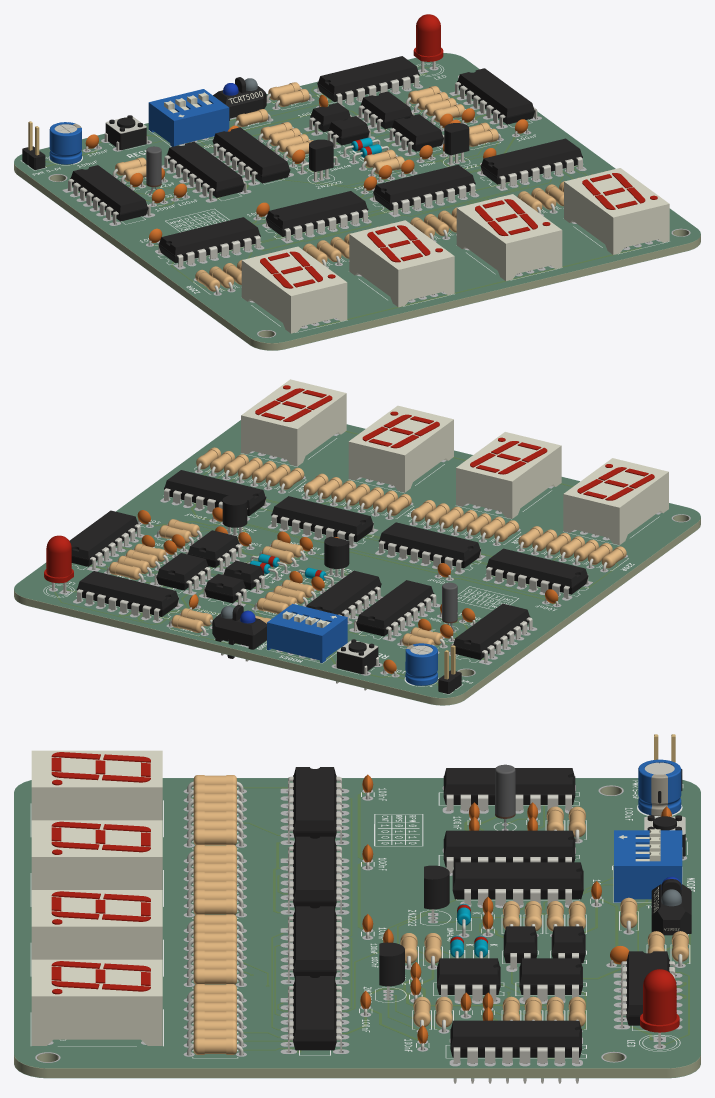
File: optotach_3d_model.glb
3 views of the same model, one above another, from view 1: azimuth 30°, elevation 25°; view 2: azimuth 150°, elevation 25°; view 3: azimuth 270°, elevation 25° (orthographic). The views are drawn at different scales.
Visible parts, largest first — view 1: =>[0:1:1:39], =>[0:1:1:41], =>[0:1:1:33] (×4), =>[0:1:1:19] (×8), =>[0:1:1:35], =>[0:1:1:25], =>[0:1:1:9] (×2), =>[0:1:1:37], =>[0:1:1:27], =>[0:1:1:17] (×2), =>[0:1:1:21] (×2), =>[0:1:1:29] (+6 smaller); view 2: =>[0:1:1:39], =>[0:1:1:41], =>[0:1:1:33] (×4), =>[0:1:1:19] (×8), =>[0:1:1:35], =>[0:1:1:25], =>[0:1:1:37], =>[0:1:1:9] (×2), =>[0:1:1:27], =>[0:1:1:29], =>[0:1:1:17] (×2), =>[0:1:1:21] (×2) (+6 smaller); view 3: =>[0:1:1:39], =>[0:1:1:41], =>[0:1:1:33] (×4), =>[0:1:1:19] (×8), =>[0:1:1:35], =>[0:1:1:3] (×10), =>[0:1:1:27], =>[0:1:1:9] (×2), =>[0:1:1:37], =>[0:1:1:25], =>[0:1:1:17] (×2), =>[0:1:1:21] (×2) (+7 smaller).
Part boxes in pixels (left/top/right/bottom): =>[0:1:1:39]: left=14, top=53, right=700, bottom=343; =>[0:1:1:41]: left=14, top=54, right=700, bottom=350; =>[0:1:1:33] (×4): left=241, top=168, right=669, bottom=333; =>[0:1:1:19] (×8): left=68, top=56, right=582, bottom=267; =>[0:1:1:35]: left=48, top=66, right=690, bottom=337; =>[0:1:1:25]: left=148, top=89, right=229, bottom=146; =>[0:1:1:9] (×2): left=358, top=91, right=444, bottom=154; =>[0:1:1:37]: left=20, top=63, right=669, bottom=332; =>[0:1:1:27]: left=212, top=127, right=290, bottom=184; =>[0:1:1:17] (×2): left=309, top=103, right=370, bottom=147; =>[0:1:1:21] (×2): left=309, top=123, right=469, bottom=181; =>[0:1:1:29]: left=213, top=77, right=266, bottom=120; =>[0:1:1:39]: left=14, top=420, right=700, bottom=697; =>[0:1:1:41]: left=14, top=421, right=700, bottom=705; =>[0:1:1:33] (×4): left=241, top=379, right=668, bottom=544; =>[0:1:1:19] (×8): left=69, top=470, right=588, bottom=663; =>[0:1:1:35]: left=49, top=433, right=690, bottom=677; =>[0:1:1:25]: left=267, top=603, right=347, bottom=662; =>[0:1:1:37]: left=43, top=438, right=659, bottom=694; =>[0:1:1:9] (×2): left=154, top=530, right=241, bottom=593; =>[0:1:1:27]: left=306, top=570, right=381, bottom=621; =>[0:1:1:29]: left=212, top=605, right=266, bottom=661; =>[0:1:1:17] (×2): left=203, top=560, right=264, bottom=604; =>[0:1:1:21] (×2): left=222, top=495, right=349, bottom=577; =>[0:1:1:39]: left=14, top=778, right=700, bottom=1068; =>[0:1:1:41]: left=14, top=779, right=700, bottom=1077; =>[0:1:1:33] (×4): left=31, top=750, right=162, bottom=1045; =>[0:1:1:19] (×8): left=288, top=767, right=675, bottom=1083; =>[0:1:1:35]: left=35, top=785, right=686, bottom=1066; =>[0:1:1:3] (×10): left=187, top=829, right=243, bottom=1055; =>[0:1:1:27]: left=452, top=862, right=583, bottom=905; =>[0:1:1:9] (×2): left=437, top=958, right=582, bottom=1001; =>[0:1:1:37]: left=30, top=780, right=694, bottom=1058; =>[0:1:1:25]: left=614, top=829, right=682, bottom=902; =>[0:1:1:17] (×2): left=503, top=926, right=585, bottom=969; =>[0:1:1:21] (×2): left=379, top=865, right=449, bottom=999.
Bounding box in the file's own units: 0.1 × 0.0154 × 0.1.
